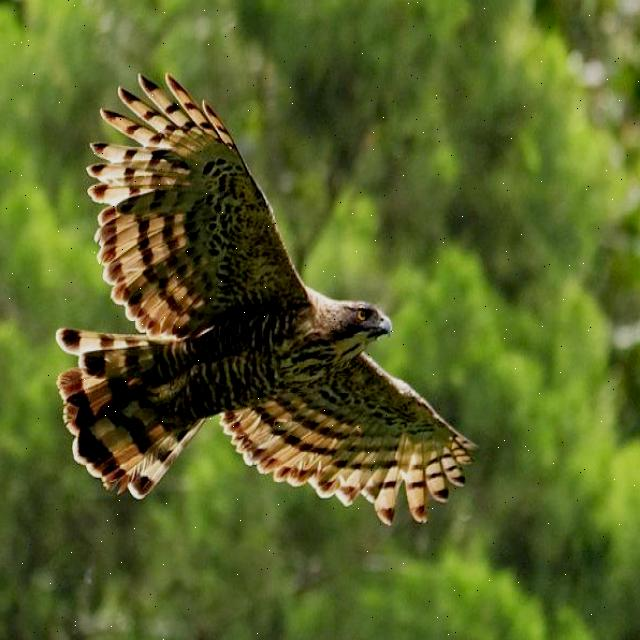Elang Jawa: (35, 58, 488, 566)
